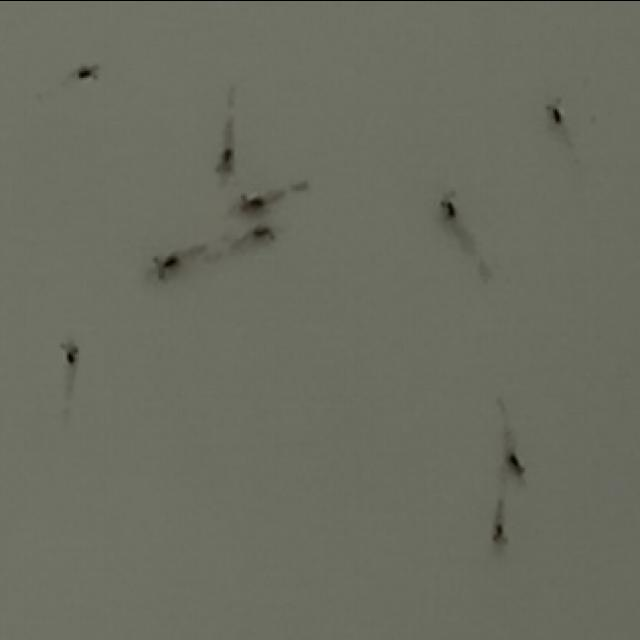shrimp-seed: (486, 512, 518, 560), (431, 185, 465, 228), (146, 246, 182, 286), (502, 444, 534, 488), (212, 143, 240, 184), (541, 94, 569, 132), (235, 190, 270, 218), (72, 52, 102, 84), (60, 338, 84, 373), (252, 222, 282, 248)
